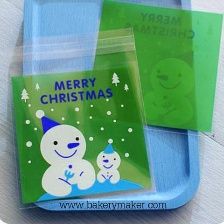snack: (0, 21, 161, 213), (75, 0, 224, 141)
